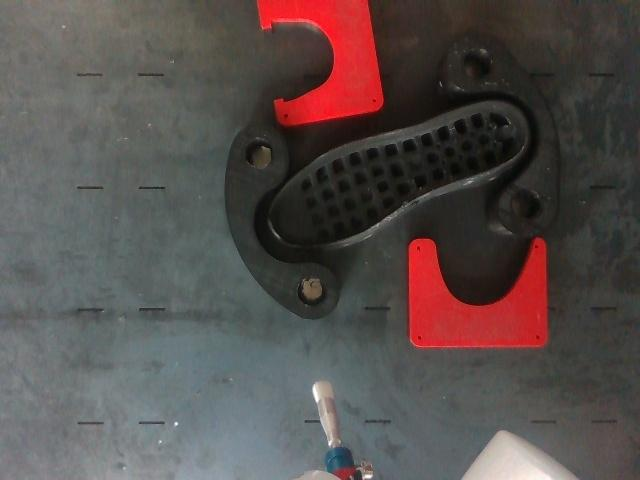shoes: (270, 103, 527, 246)
